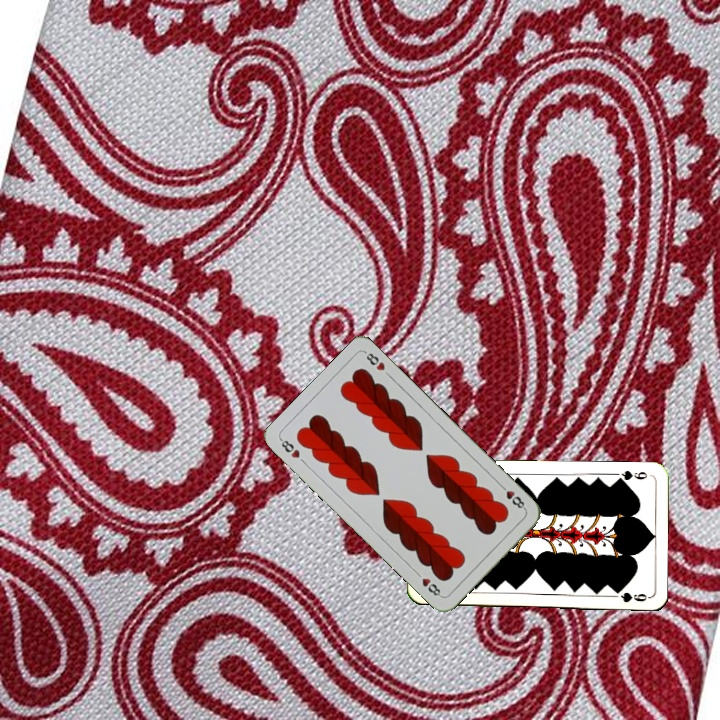G9: (612, 467, 650, 484)
H8: (496, 480, 528, 512), (276, 435, 302, 461)
